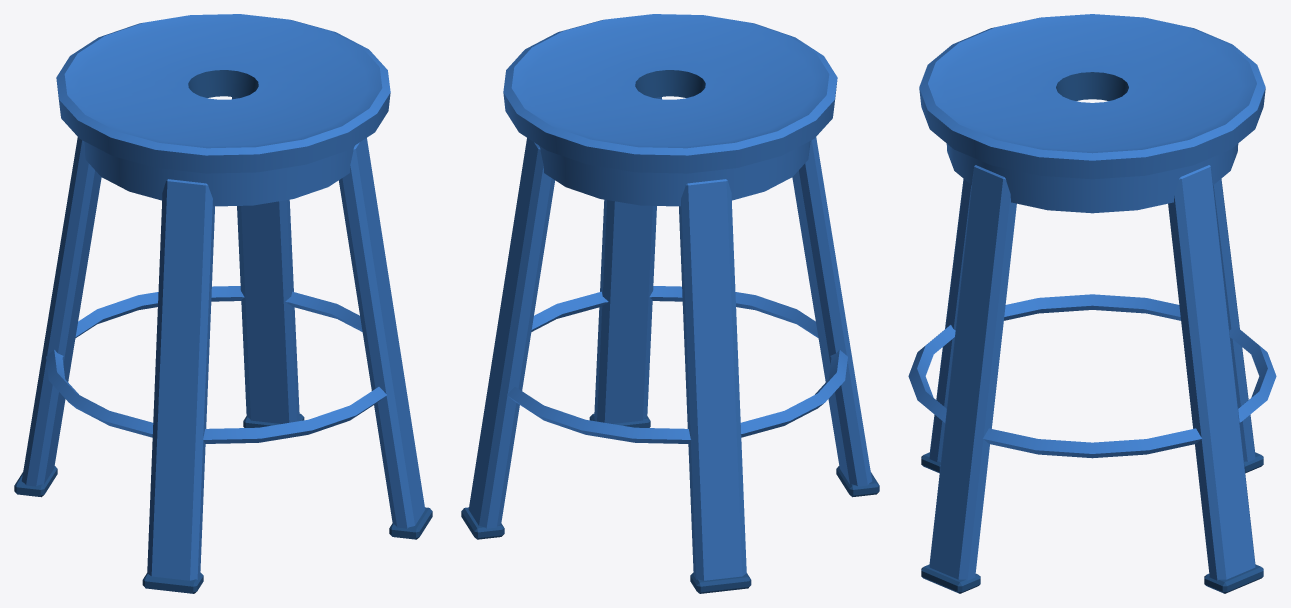
Rendered from SC_Home_Plastic_Stool_Tall.gltf.
3 renders of one model, left to right at view 1: azimuth 30°, elevation 25°; view 2: azimuth 150°, elevation 25°; view 3: azimuth 270°, elevation 25°, orthographic. The views are drawn at different scales.
Parts seen in each view (by area): view 1: SC_Home_Plastic_Stool_Tall; view 2: SC_Home_Plastic_Stool_Tall; view 3: SC_Home_Plastic_Stool_Tall.
Boxes of the visible parts, x1=… form: SC_Home_Plastic_Stool_Tall: x1=14, y1=14, x2=432, y2=593; SC_Home_Plastic_Stool_Tall: x1=461, y1=14, x2=879, y2=593; SC_Home_Plastic_Stool_Tall: x1=908, y1=14, x2=1276, y2=593.
Size of the model in its own units: 0.342 by 0.45 by 0.342.
1 material, 1 textured.
